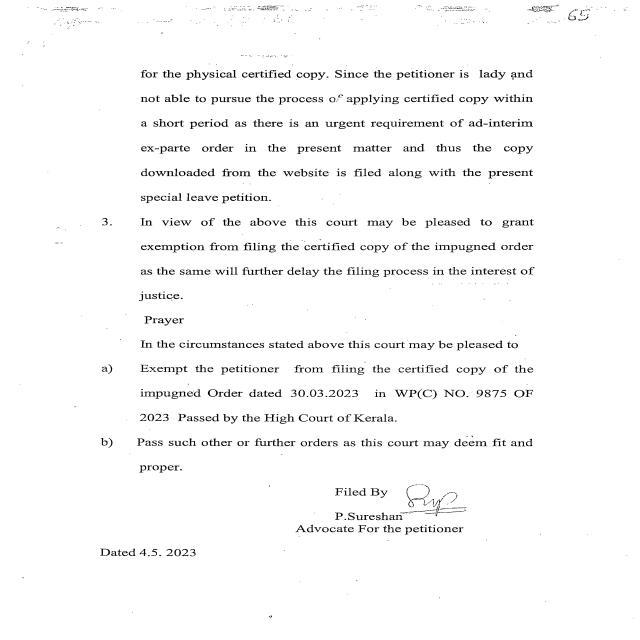page-number: (478, 0, 640, 68)
